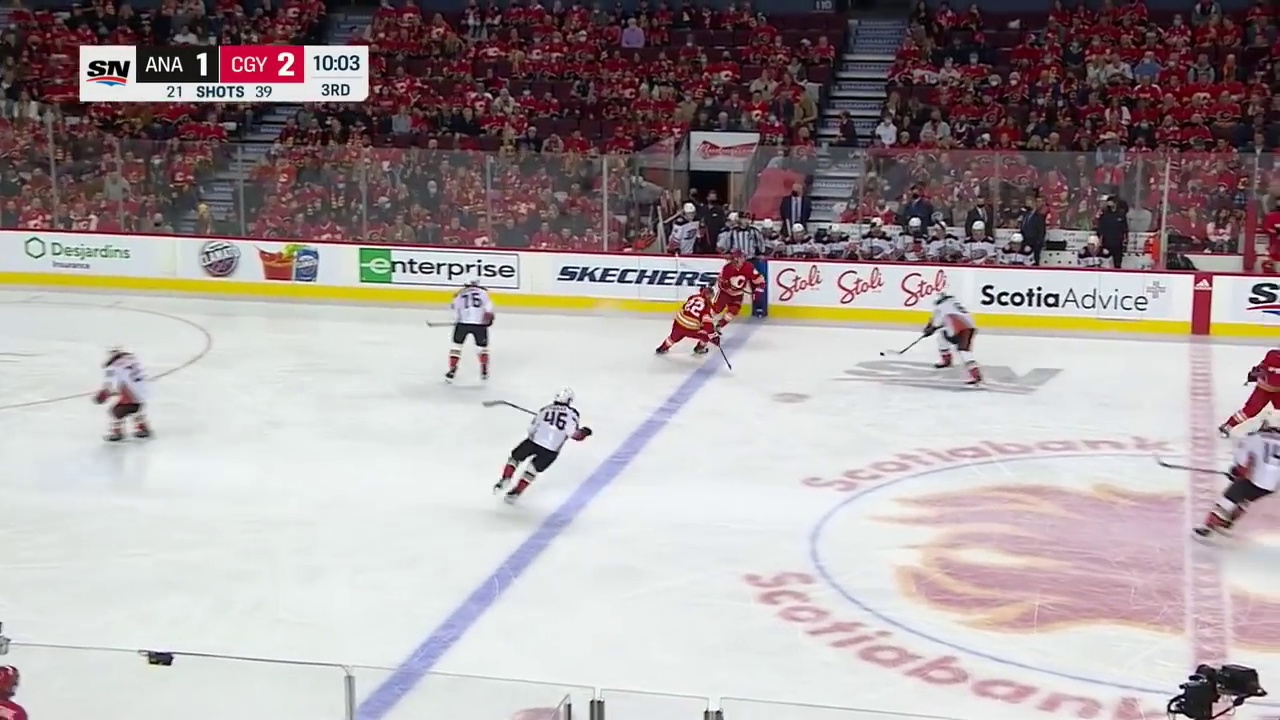hockeyplayer: (492, 386, 593, 505), (1192, 408, 1280, 542), (923, 288, 985, 389), (92, 342, 152, 443), (1218, 349, 1280, 439), (445, 274, 495, 384), (709, 251, 766, 336), (655, 286, 721, 357)
